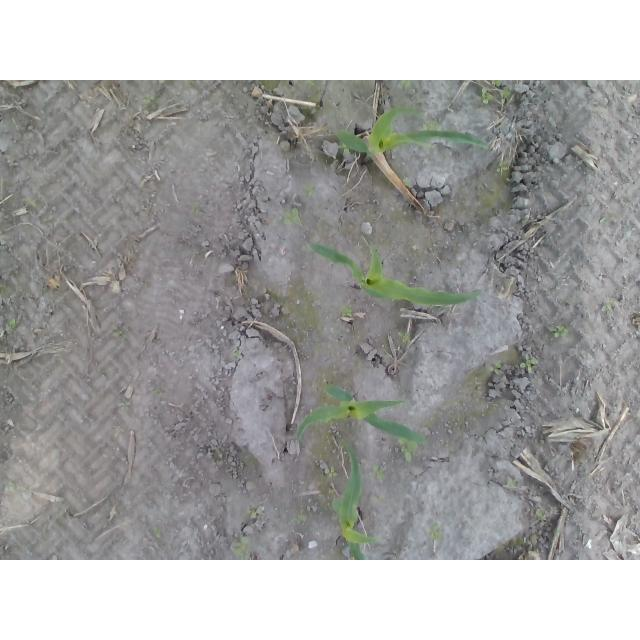Maize: (305, 238, 481, 309), (297, 382, 431, 447), (333, 106, 492, 153), (328, 442, 382, 560)
Weeds: (481, 80, 511, 105), (228, 532, 253, 560), (399, 437, 418, 463), (280, 207, 301, 226), (495, 160, 510, 185), (520, 354, 540, 370), (550, 323, 570, 338), (371, 462, 386, 482), (426, 524, 443, 541), (111, 323, 130, 338), (143, 94, 160, 110), (390, 206, 415, 216), (190, 203, 206, 218), (489, 361, 504, 376), (323, 465, 338, 480), (398, 329, 413, 343), (0, 479, 16, 492), (23, 196, 39, 208), (0, 318, 16, 330), (289, 512, 305, 524), (1, 280, 12, 297), (339, 304, 353, 317), (422, 119, 438, 130), (0, 118, 16, 129), (399, 80, 418, 89), (245, 508, 259, 519), (506, 477, 518, 489), (41, 214, 55, 224), (535, 509, 546, 521), (152, 525, 161, 539), (469, 375, 479, 386), (119, 401, 130, 411), (304, 186, 313, 198), (339, 144, 350, 153), (232, 350, 241, 361), (606, 298, 613, 311), (307, 106, 317, 115), (159, 80, 174, 85), (600, 216, 609, 224), (306, 80, 314, 88), (383, 351, 390, 360), (256, 80, 265, 85), (304, 96, 312, 101), (585, 80, 591, 86)
